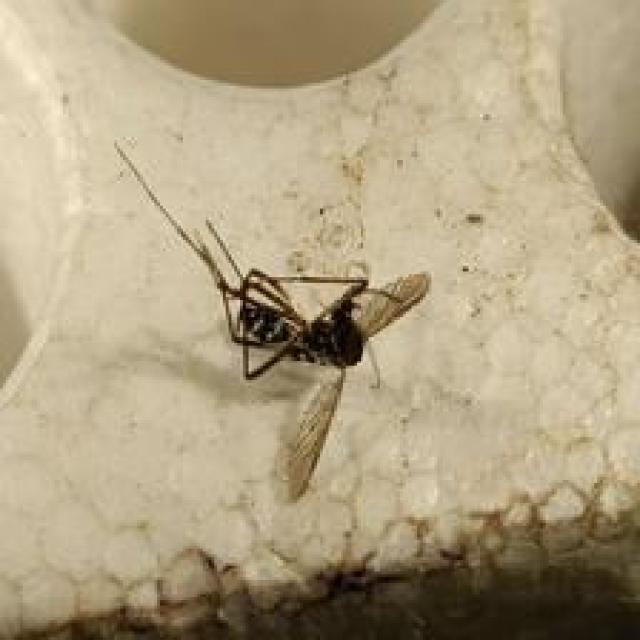Aedes albopictus: (113, 137, 433, 503)
